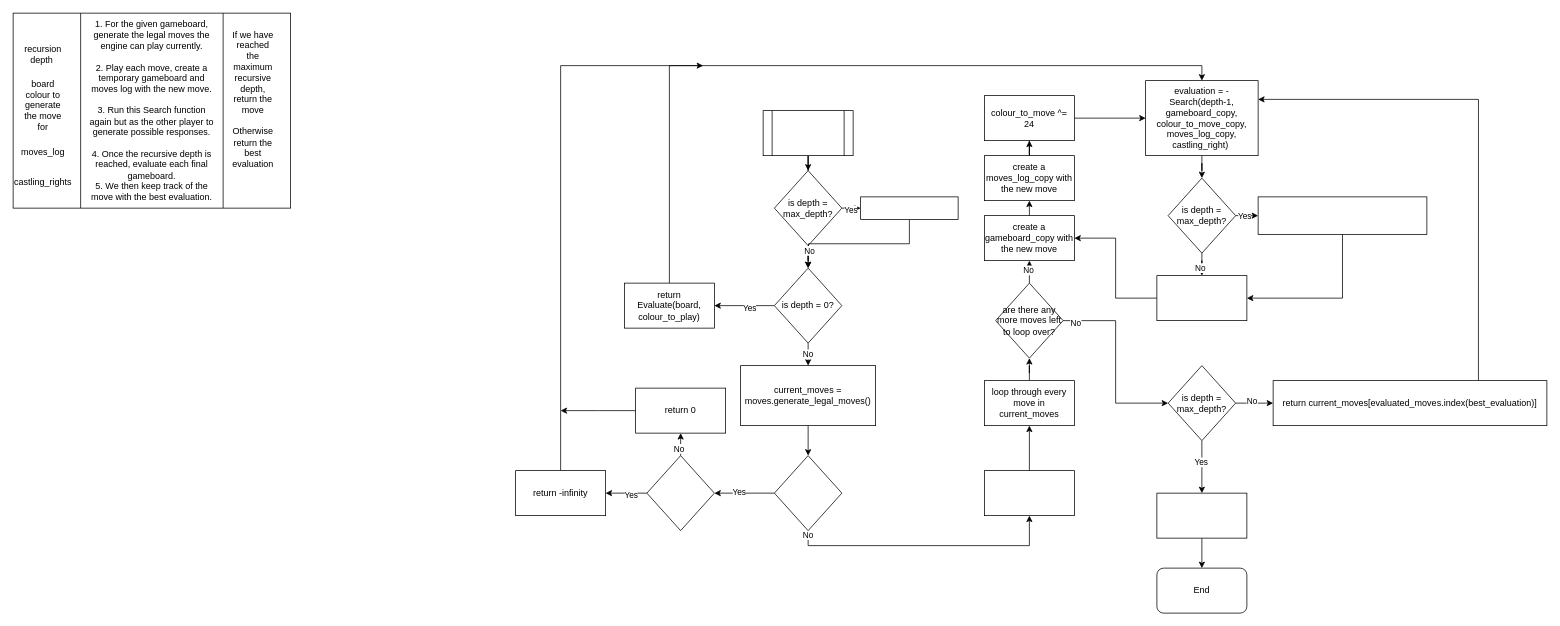
The diagram is 1560 pixels wide and 626 high, and some of its shapes have lost their labels. The box of each missing label's shape, as (x1, y1, x2, y2) in pixels:
best_evaluation = -infinity: (984, 470, 1074, 516)
best_evaluation = max(best_evaluation, evaluation): (1156, 275, 1247, 321)
evaluated_moves = []: (860, 196, 958, 219)
evaluated_moves.append(evaluation): (1257, 196, 1427, 234)
is the king under attack?: (646, 455, 714, 531)
is the length of the list 0?: (774, 455, 842, 531)
Return best_evaluation: (1156, 492, 1247, 538)
Search(): (762, 110, 853, 156)
